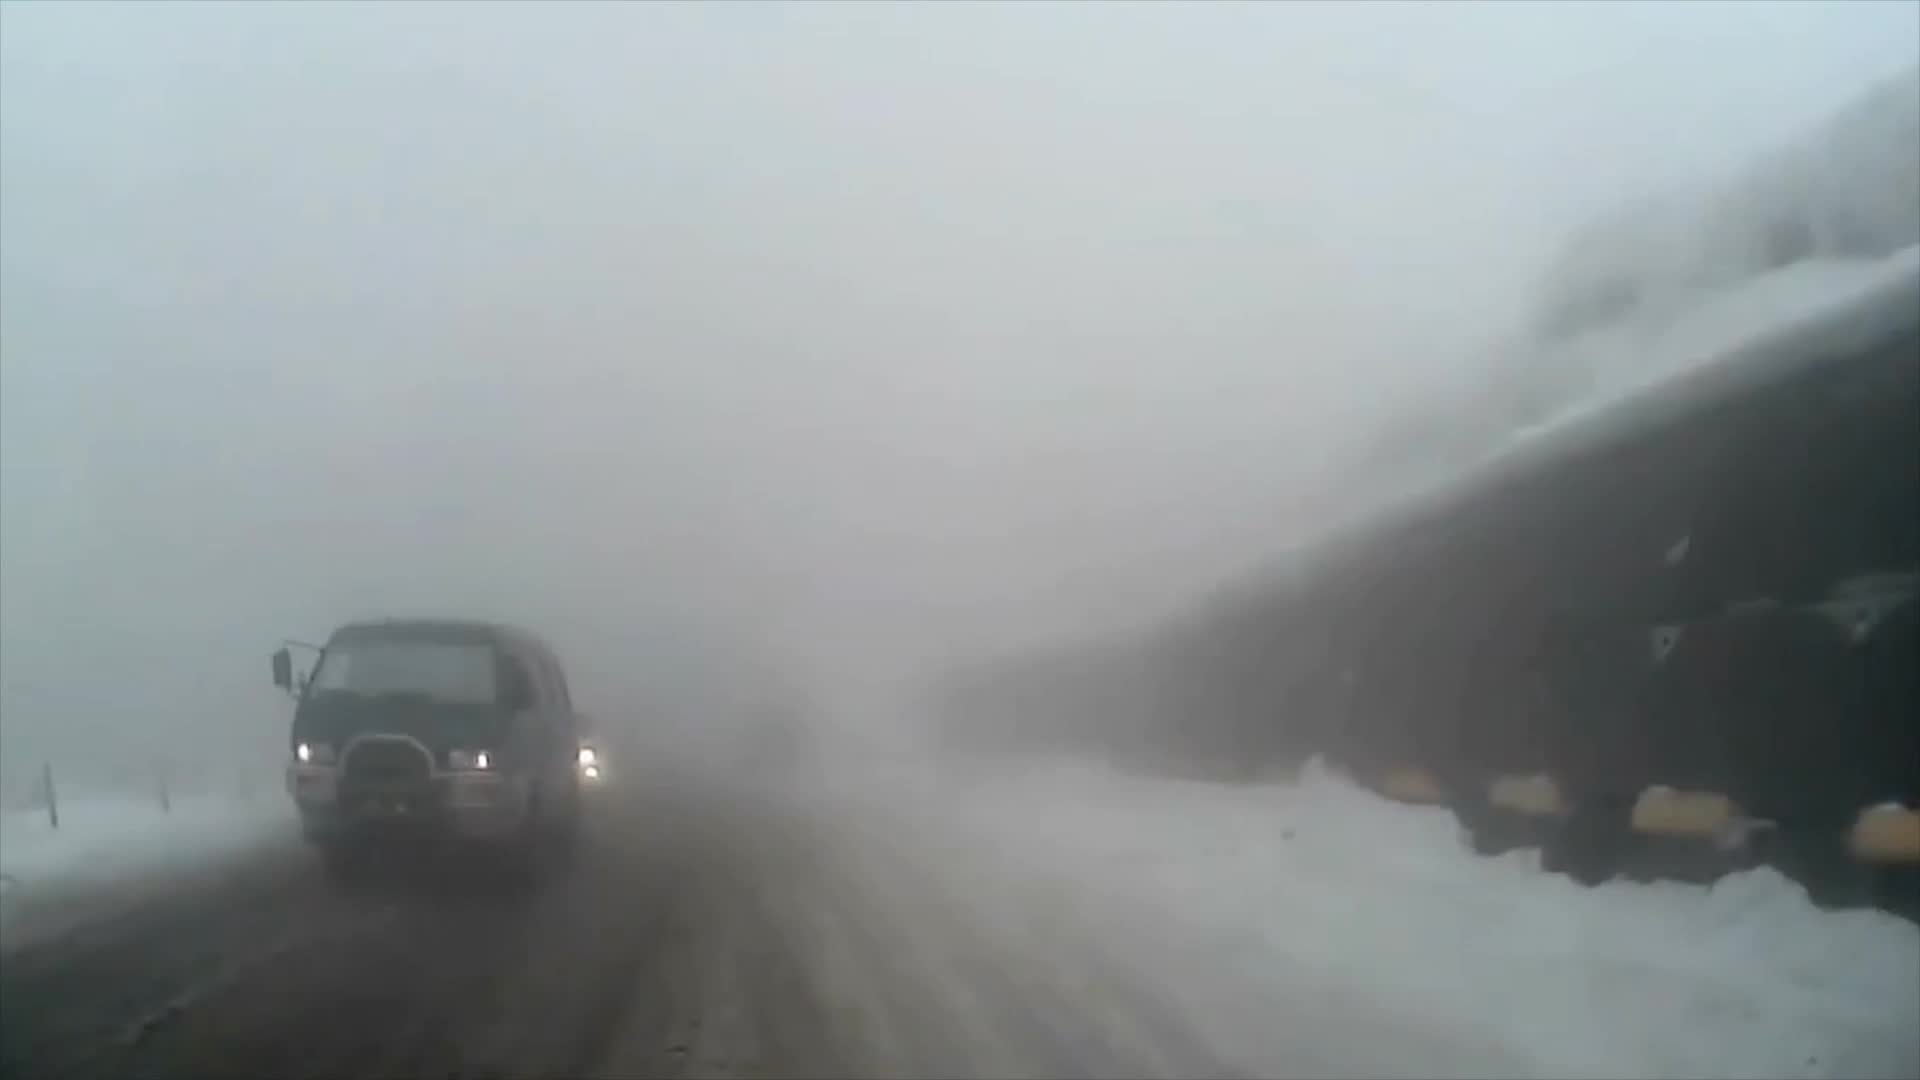vehicle: (266, 611, 585, 898)
